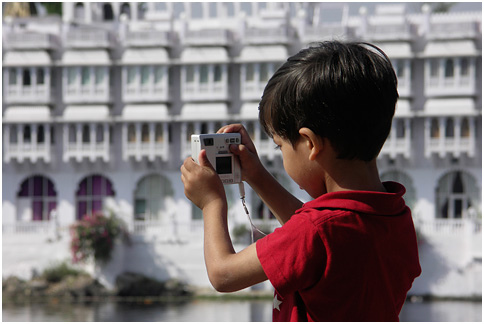person: (181, 41, 423, 324)
